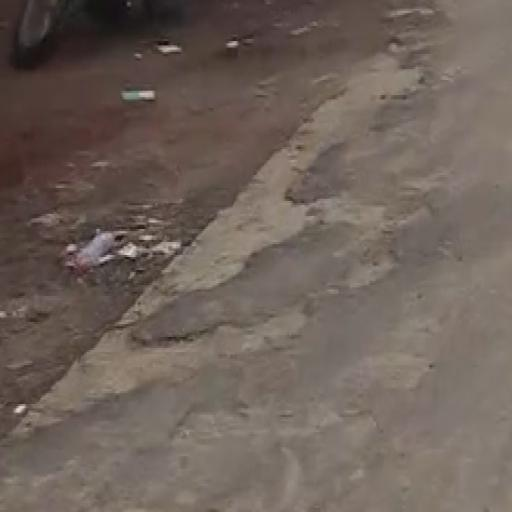edge_damage: (30, 121, 452, 456)
